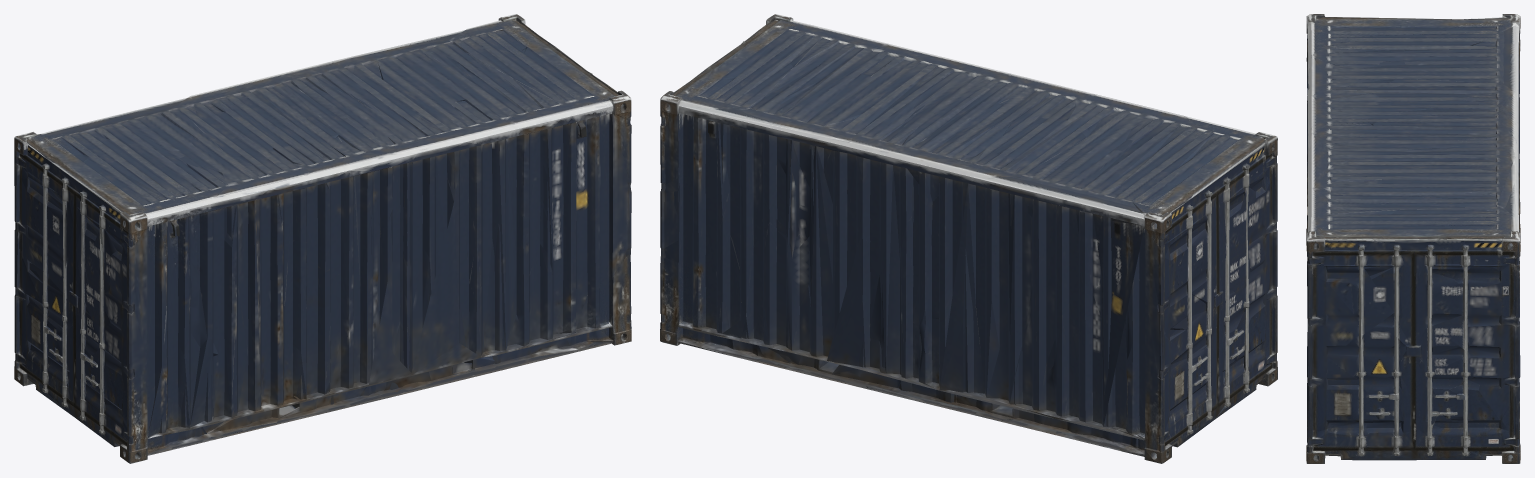
Rendered from container-40k.glb.
The picture shows the model from 3 angles, left to right: view 1: azimuth 30°, elevation 25°; view 2: azimuth 150°, elevation 25°; view 3: azimuth 270°, elevation 25°; orthographic projection. The views are drawn at different scales.
Visible parts, largest first — view 1: output_unwrapped; view 2: output_unwrapped; view 3: output_unwrapped.
Boxes of the visible parts, bbox=[...] form: output_unwrapped: bbox=[14, 14, 631, 463]; output_unwrapped: bbox=[660, 14, 1277, 463]; output_unwrapped: bbox=[1306, 14, 1520, 463].
Bounding box in the file's own units: 1.9 × 0.8848 × 0.7633.
1 material, 1 textured.
